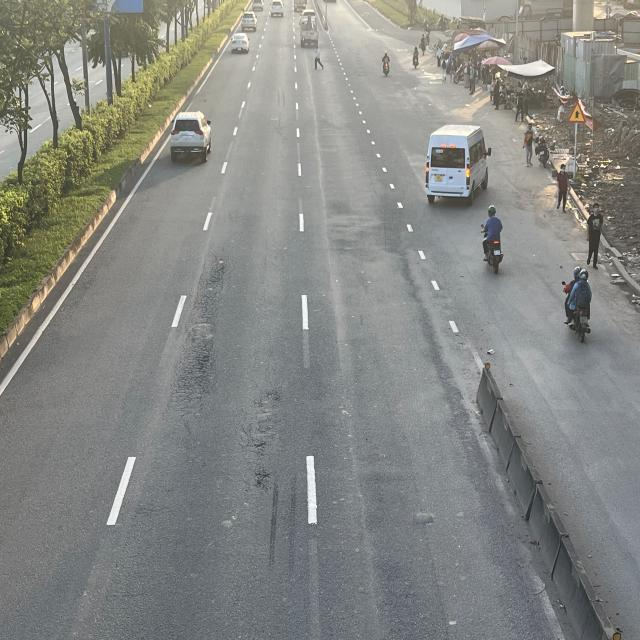car: (171, 112, 213, 164)
van: (426, 124, 494, 204)
